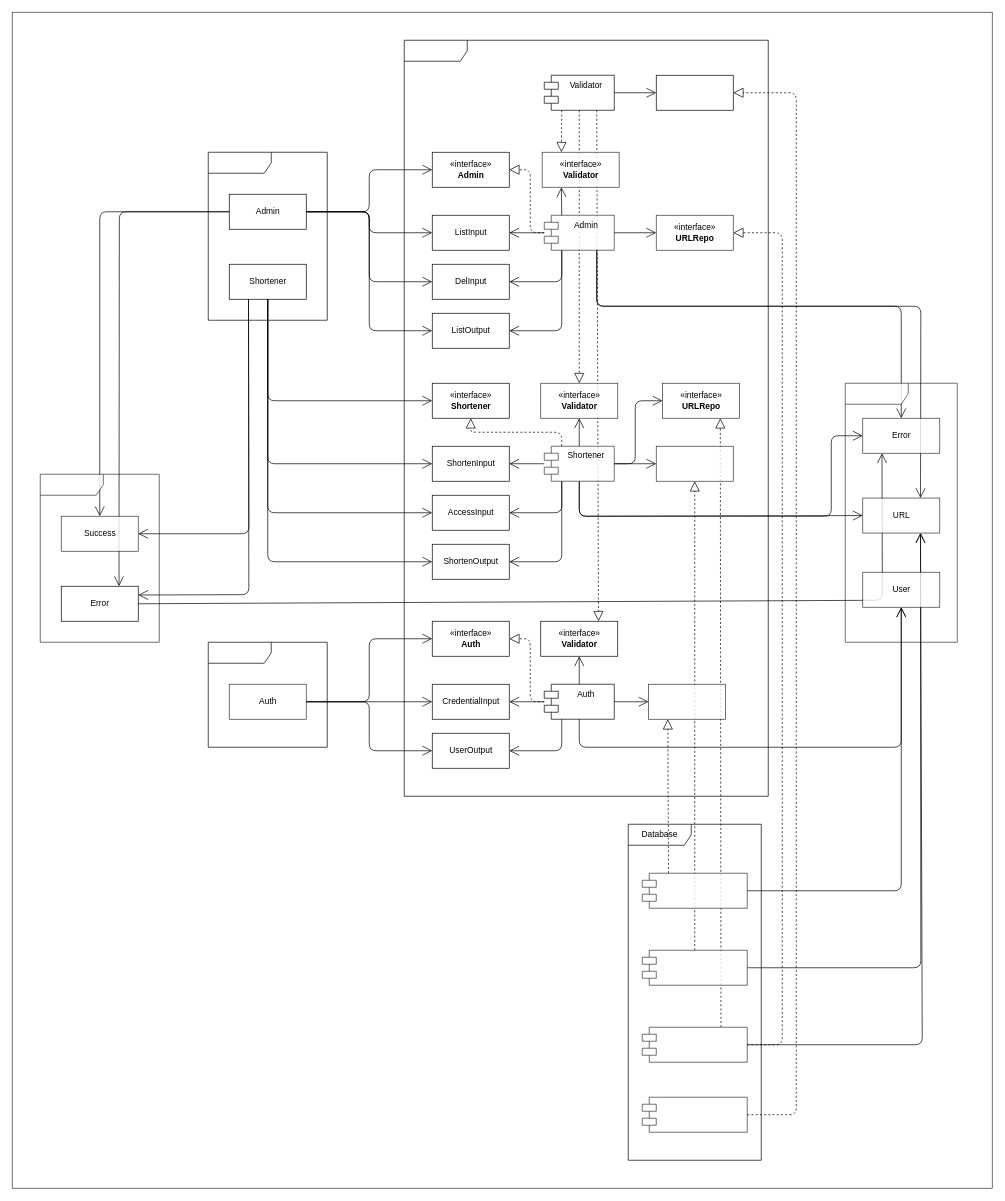
Some shapes in this 1005 by 1201 pixel diagram are drawn without their labels. The box of each missing label's shape, as (x1, y1, x2, y2) in pixels:
BlacklistStaticRepo: (642, 1097, 747, 1132)
Component: (404, 40, 768, 796)
Controller: (208, 152, 327, 320)
Entity: (845, 383, 957, 642)
Middleware: (208, 642, 327, 747)
Presenter: (40, 474, 159, 642)
URLMongoDBRepo: (642, 1027, 747, 1062)
URLRedisCache: (642, 950, 747, 985)
UserStaticRepo: (642, 873, 747, 908)
«interface» BlacklistRepo: (656, 75, 733, 110)
«interface» URLCache: (656, 446, 733, 481)
«interface» UserRepo: (648, 684, 726, 719)
